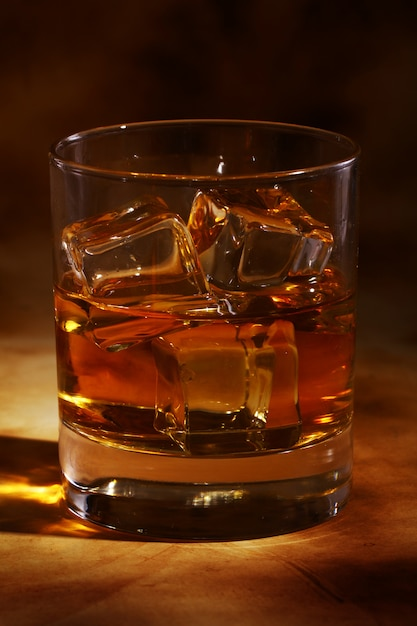alcohol: (42, 111, 358, 539)
